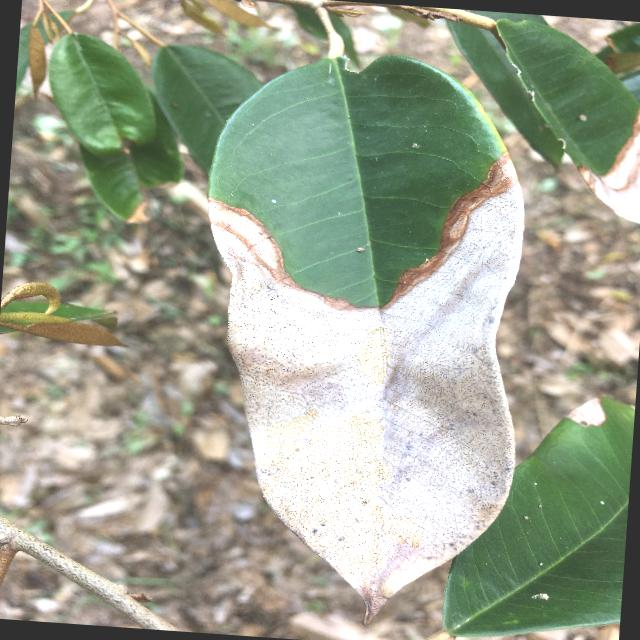Leaf Blight: (171, 37, 548, 637)
